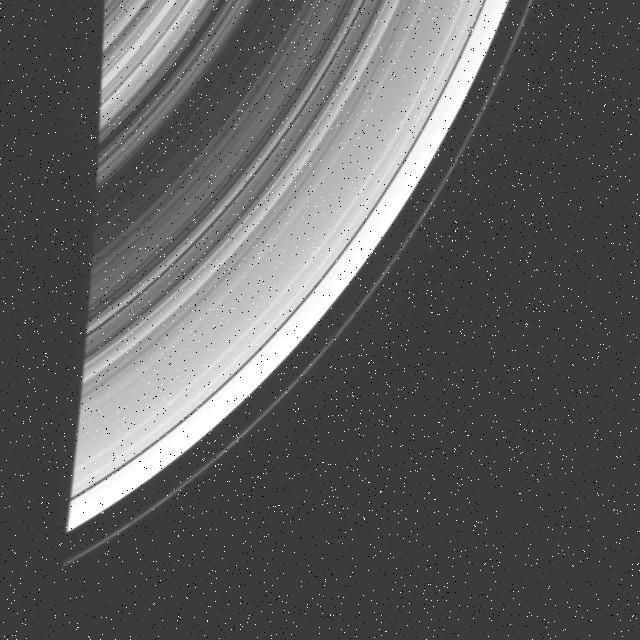Saturn: (0, 0, 557, 572)
